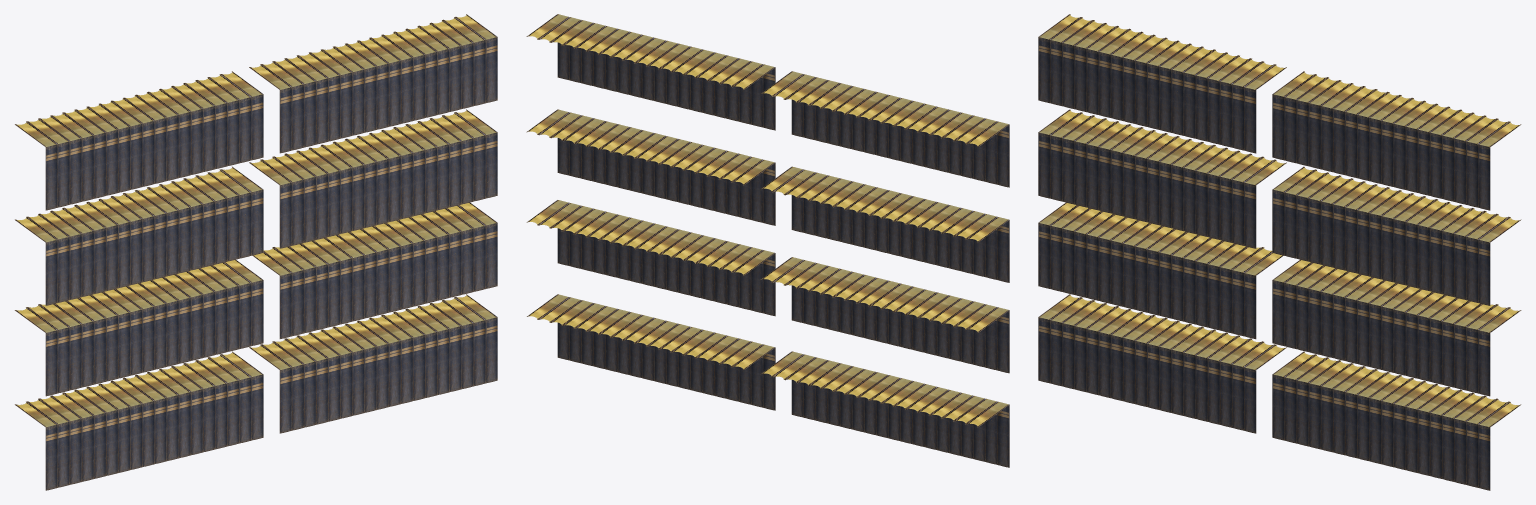
File: Bookcase_Books.fbx
3 views of the same model, side by side, from view 1: azimuth 30°, elevation 25°; view 2: azimuth 150°, elevation 25°; view 3: azimuth 330°, elevation 25° (orthographic).
Visible parts, largest first — view 1: pCube17; view 2: pCube17; view 3: pCube17.
Part boxes in pixels (left/top/right/bottom): pCube17: left=14, top=14, right=497, bottom=490; pCube17: left=526, top=14, right=1009, bottom=467; pCube17: left=1038, top=14, right=1521, bottom=490.
Size of the model in its own units: 8.33 by 6.05 by 1.
